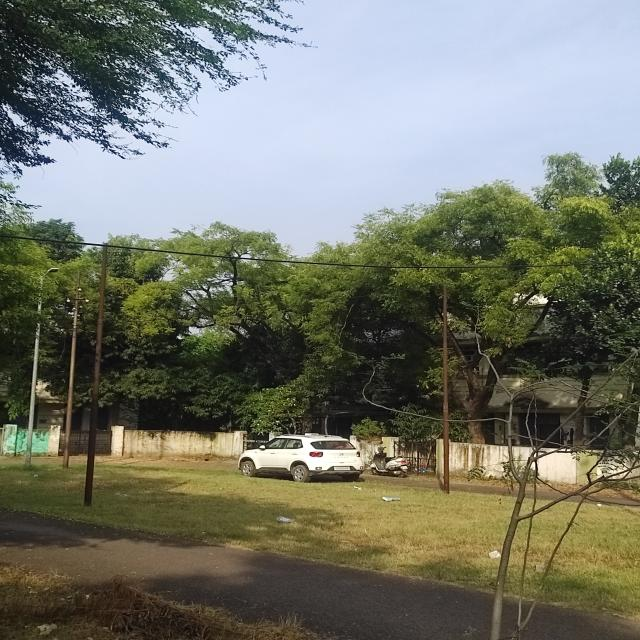Neem Tree: (313, 168, 591, 457)
